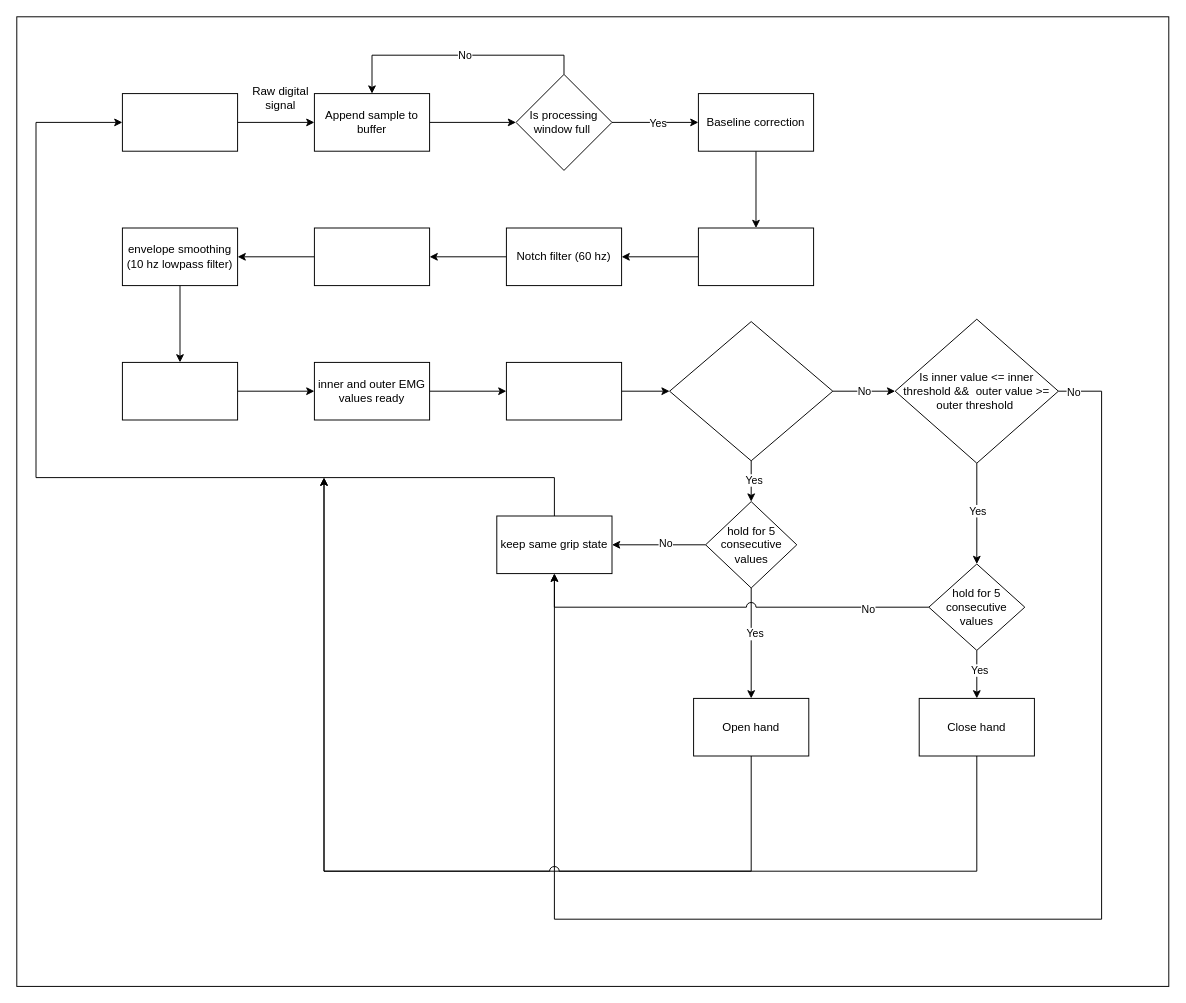
The diagram is 1186 pixels wide and 1003 high, and some of its shapes have lost their labels. Each missing label, with the box of its shape:
2 channel EMG collects signal and digitizes via ADC: (121, 93, 238, 151)
Band pass filter (20 - 450 hz): (697, 227, 814, 286)
Grip detection: compares values to calibrated threshold: (505, 361, 622, 420)
Is inner value >= inner threshold && outer value <= outer threshold: (669, 321, 833, 461)
moving average: (121, 361, 238, 420)
Rectification: (313, 227, 430, 286)
